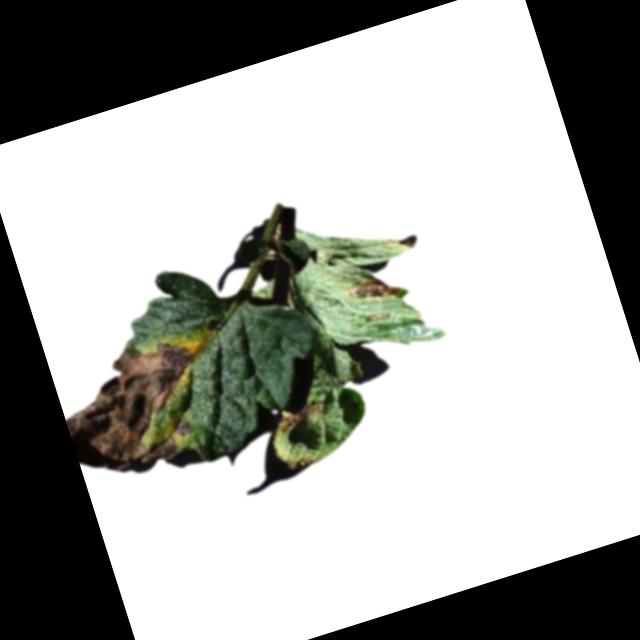Early_blight: (51, 321, 234, 483), (345, 273, 400, 311), (273, 400, 326, 435), (364, 307, 393, 329), (285, 451, 314, 471)
